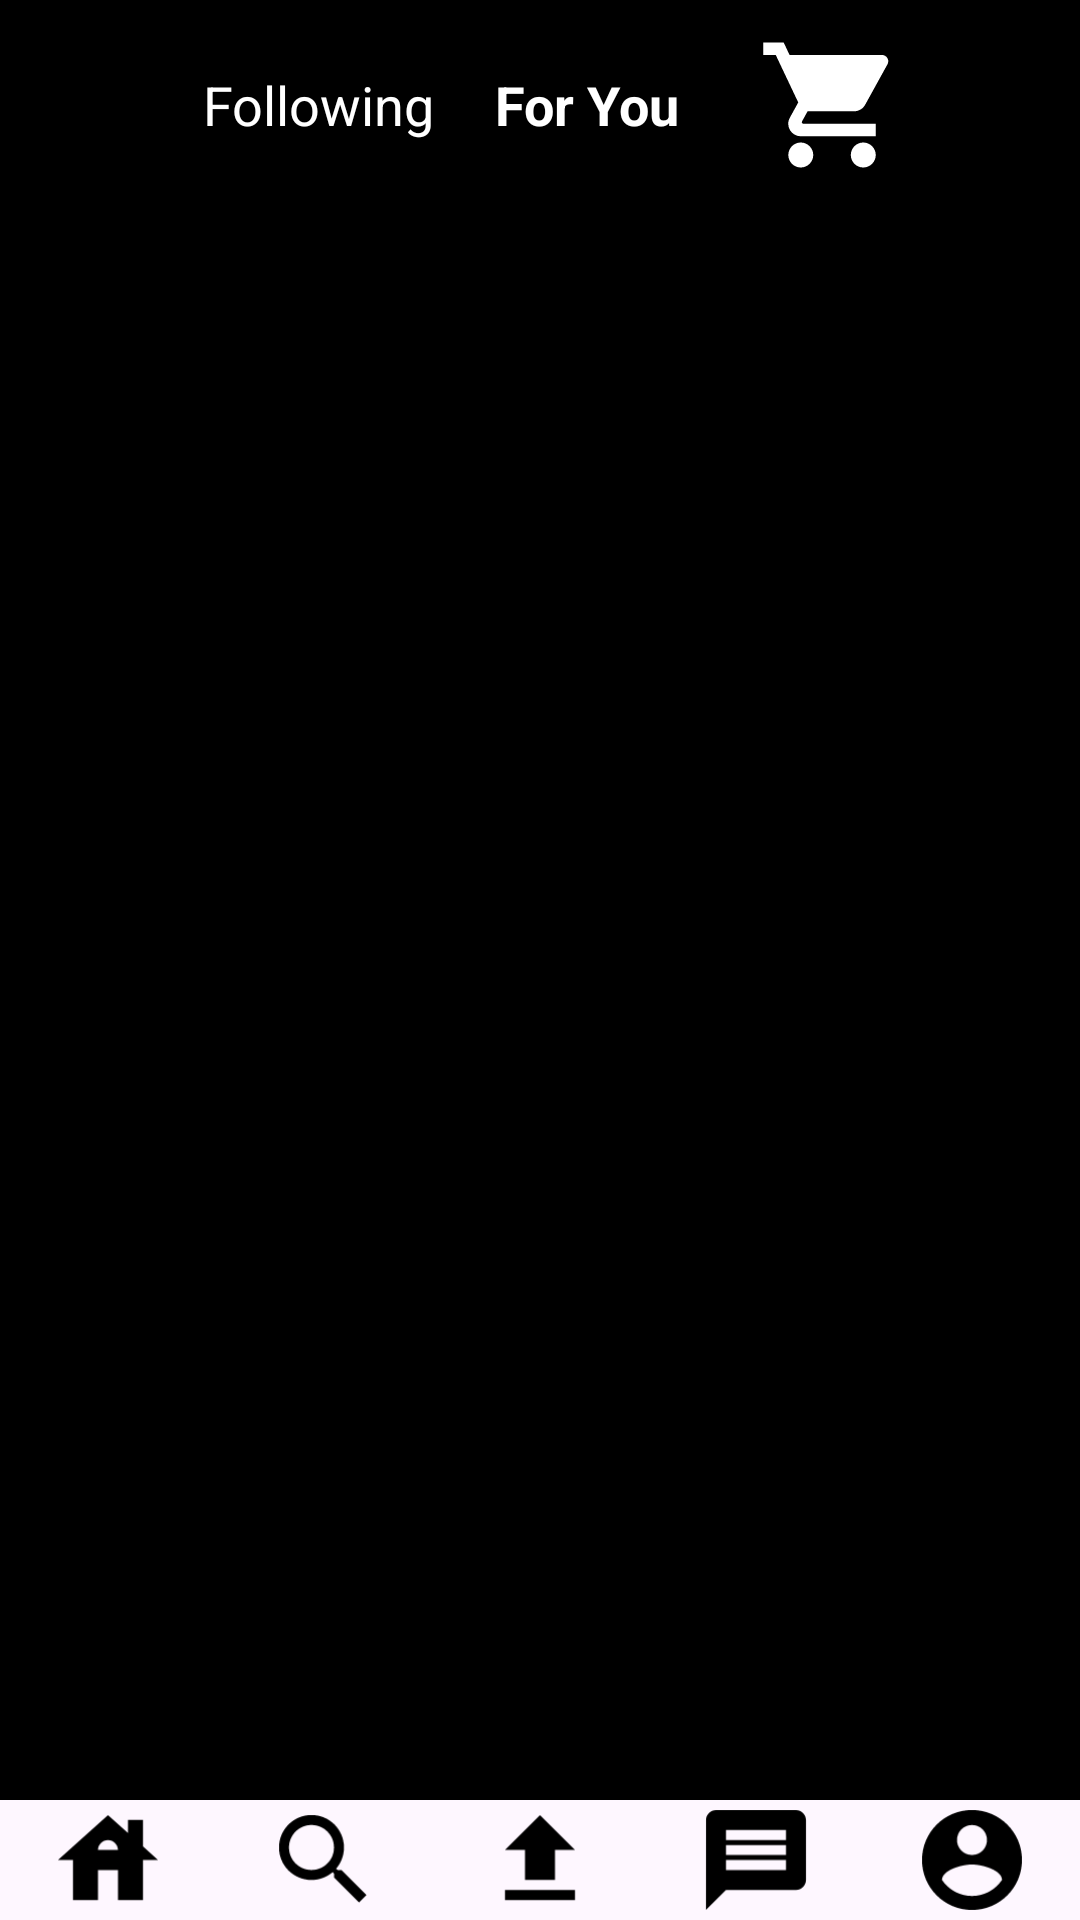

Named icons in this screenshot (1080px×1920px) and their centers, (x=x, y=y):
account circle: (x=972, y=1860)
house: (x=108, y=1858)
message: (x=756, y=1860)
search: (x=323, y=1859)
Shop Icon: (x=826, y=105)
upload: (x=540, y=1858)
